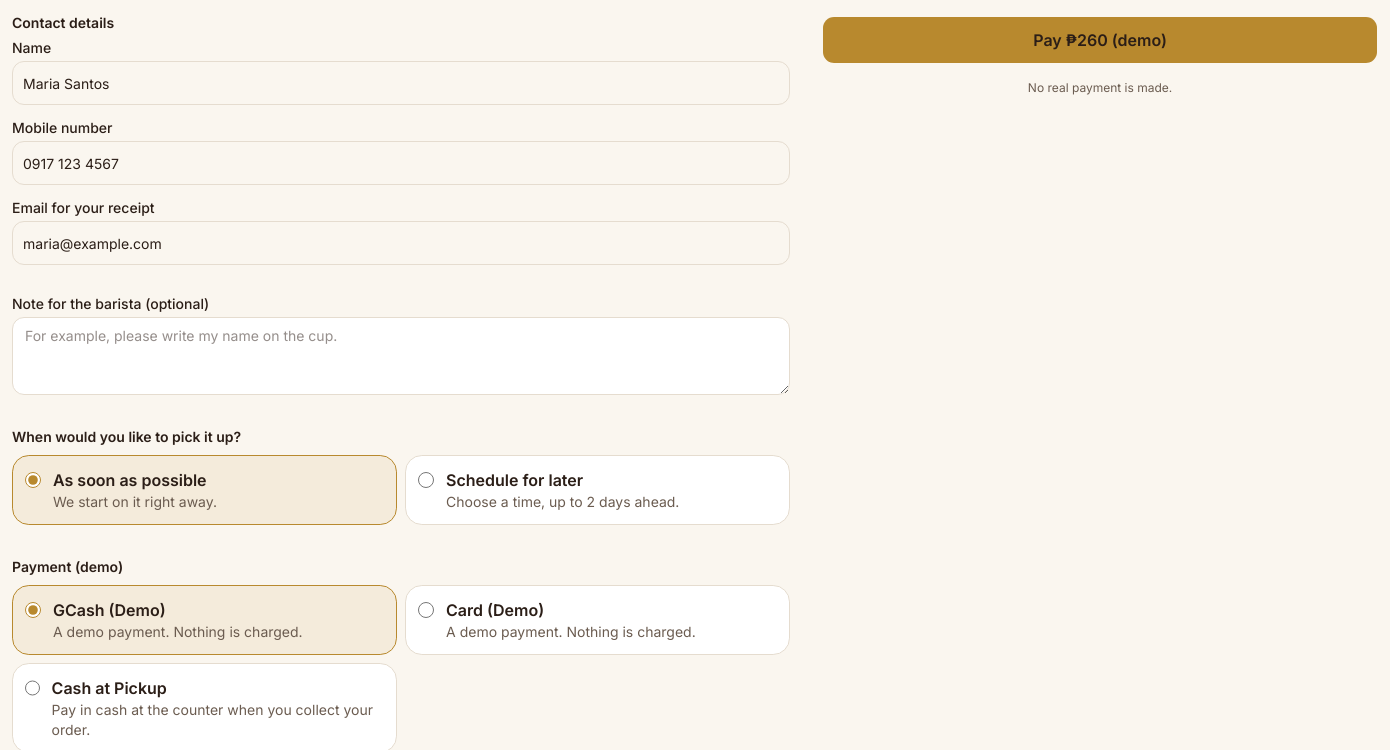
Test: CheckoutForm › offers cash at pickup, and only for pickup
(page scrolled)
Click the radio button labelled "Cash at Pickup" at (32, 688), box top-left (25, 680), bottom-right (40, 696)
(page scrolled)
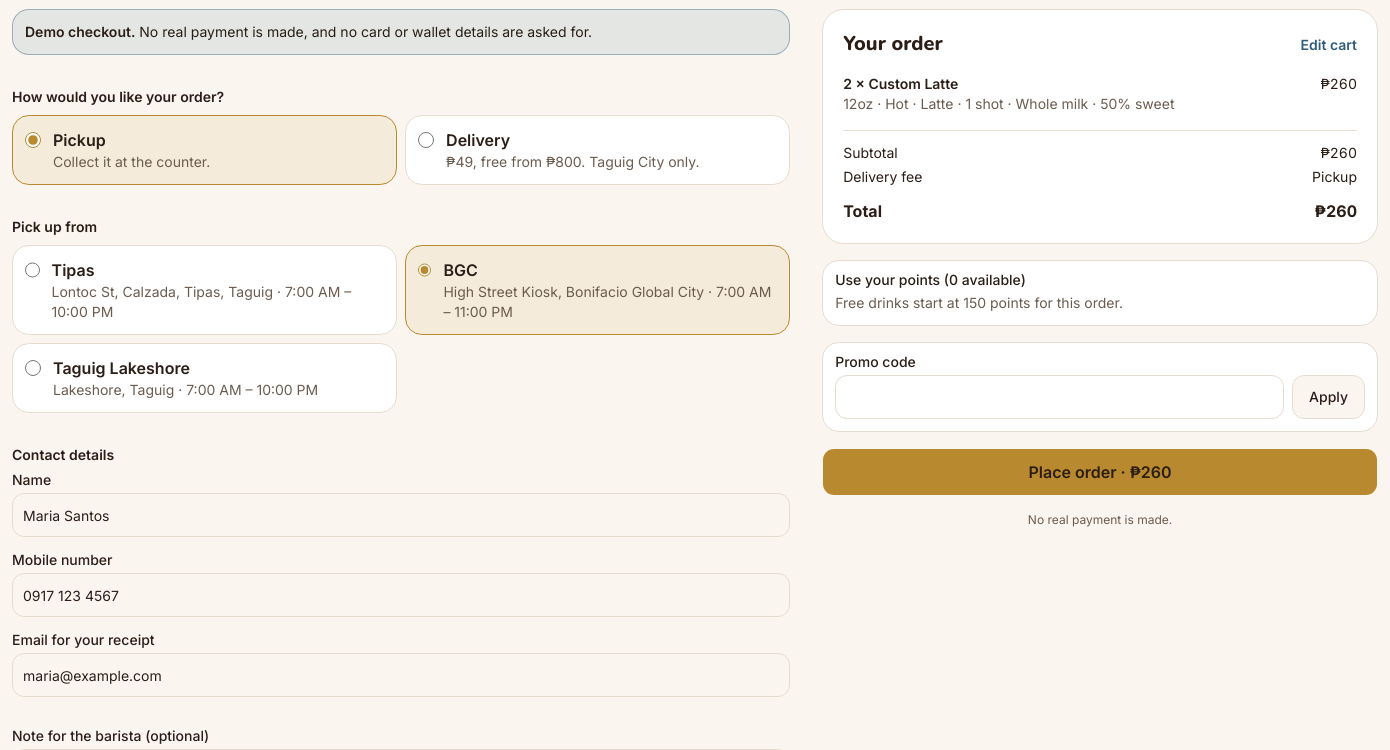
Now the button "Place order · ₱260" is shown, box top-left (822, 448), bottom-right (1378, 496)
Click the radio button labelled "Delivery ₱49, free from ₱800. Taguig City only." at (426, 140), box top-left (418, 132), bottom-right (434, 148)
(page scrolled)
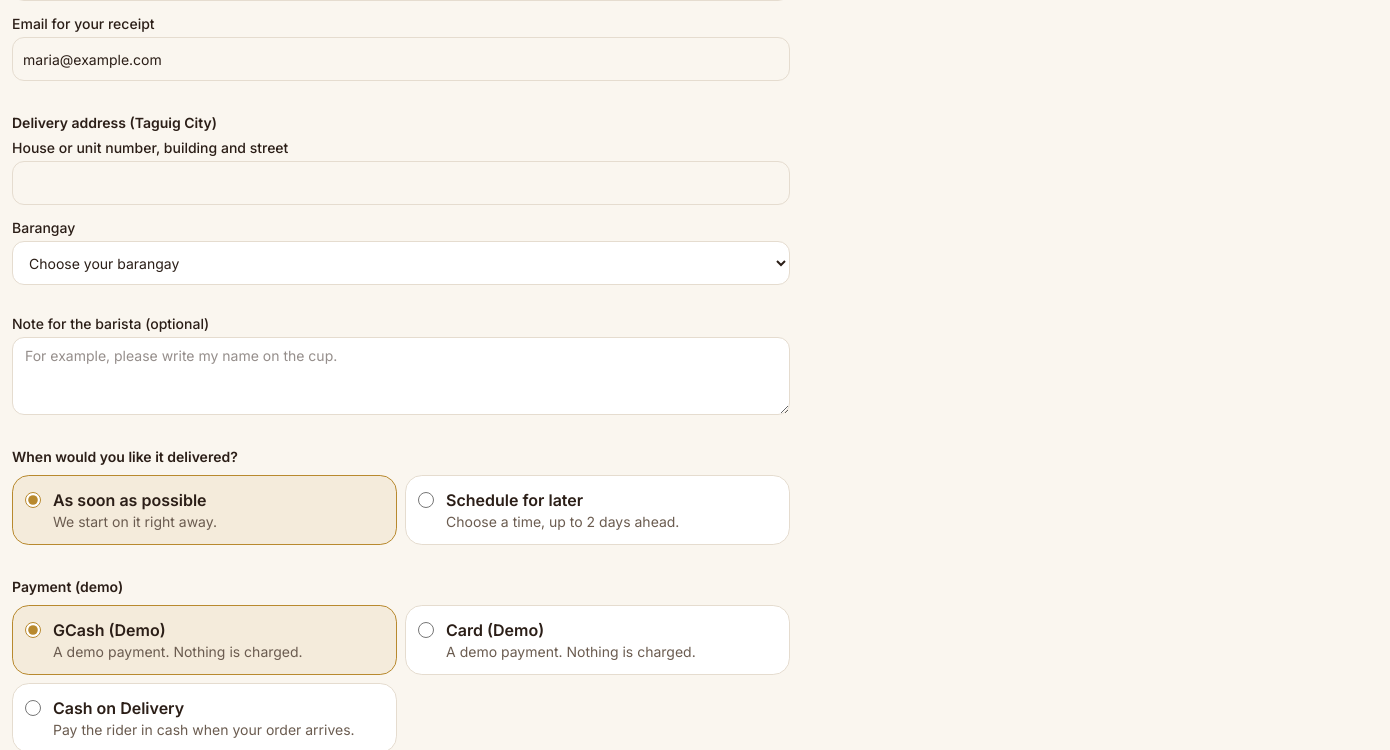
Expected: the text "Cash at Pickup" is not shown
Now the radio button labelled "GCash (Demo) A demo payment. Nothing is charged." is checked, box top-left (25, 622), bottom-right (41, 638)
